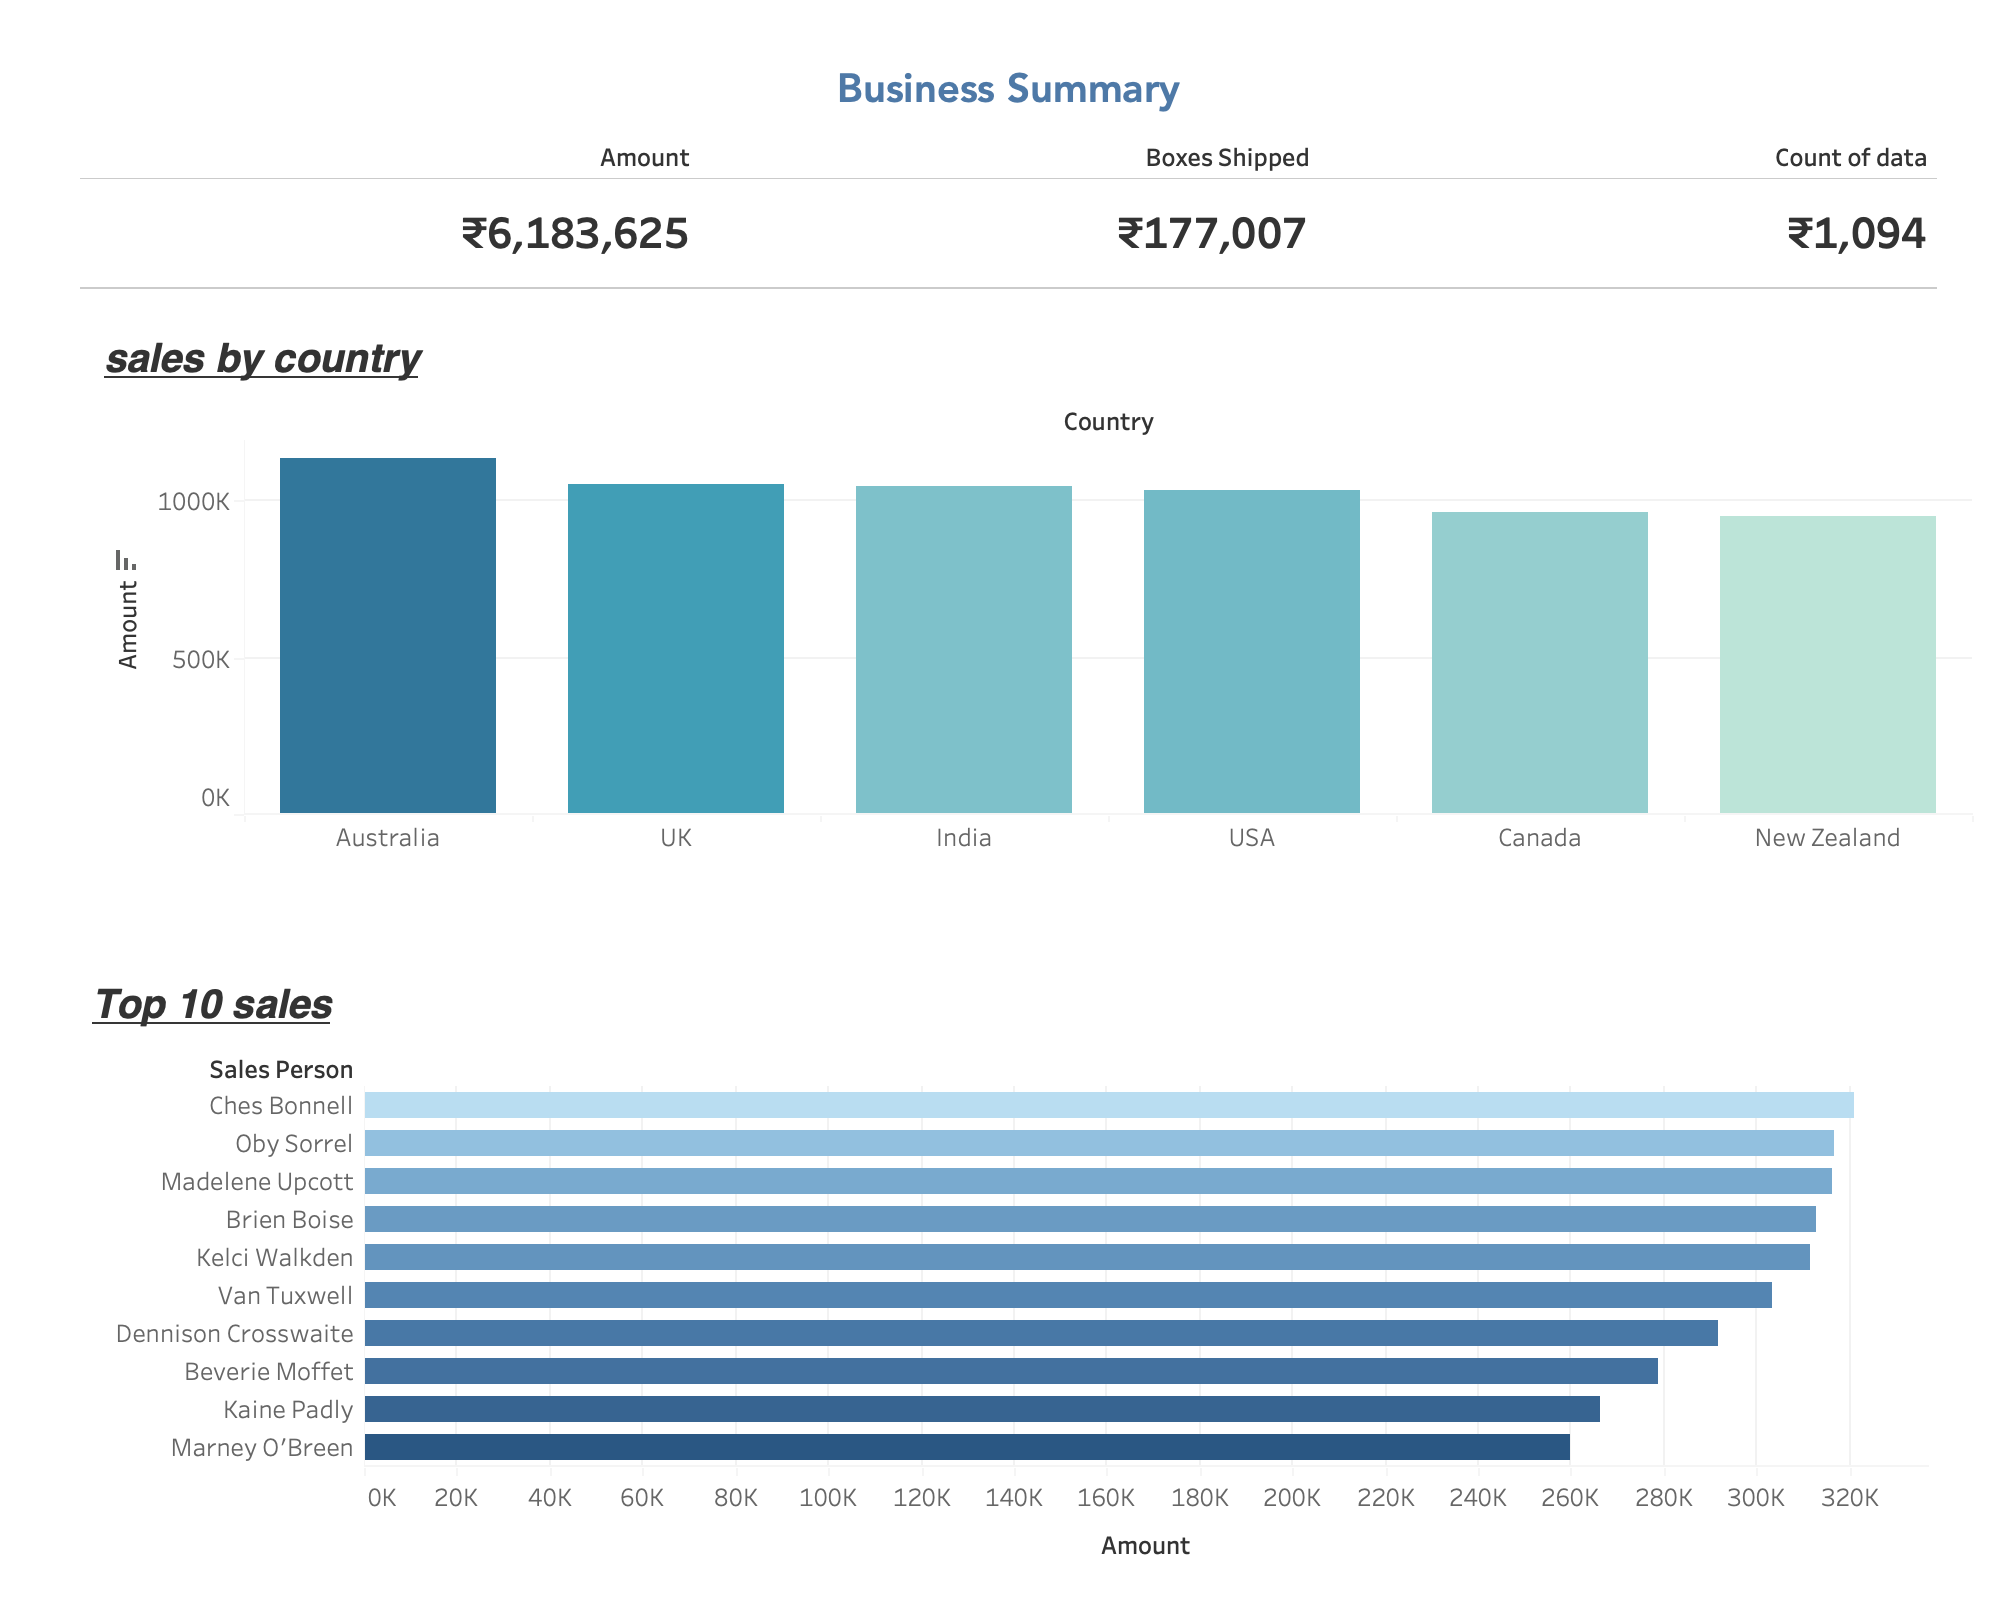

Layout of this report page (visuals, bound fields, positions):
{"tool":"tableau","page":{"name":"Business dashboard","canvas":[1000,800],"ordinal":0},"visuals":[{"type":"worksheet","title":"Business summary","mark":"Automatic","box":[40,25,929,120]},{"type":"worksheet","title":"sales by country","mark":"Automatic","rows":["Amount"],"cols":["Country"],"box":[48,165,938,282]},{"type":"worksheet","title":"top 10 sales","mark":"Automatic","rows":["Sales Person"],"cols":["Amount"],"box":[42,488,922,300]}]}

Visuals, with their boxes in screenshot pixels (x1, y1, x2, y2), scaled from the page's 1000x800 canvas onto the 2000x1600 screenshot:
"Business summary" worksheet: (left=80, top=50, right=1938, bottom=290)
"sales by country" worksheet: (left=96, top=330, right=1972, bottom=894)
"top 10 sales" worksheet: (left=84, top=976, right=1928, bottom=1576)
